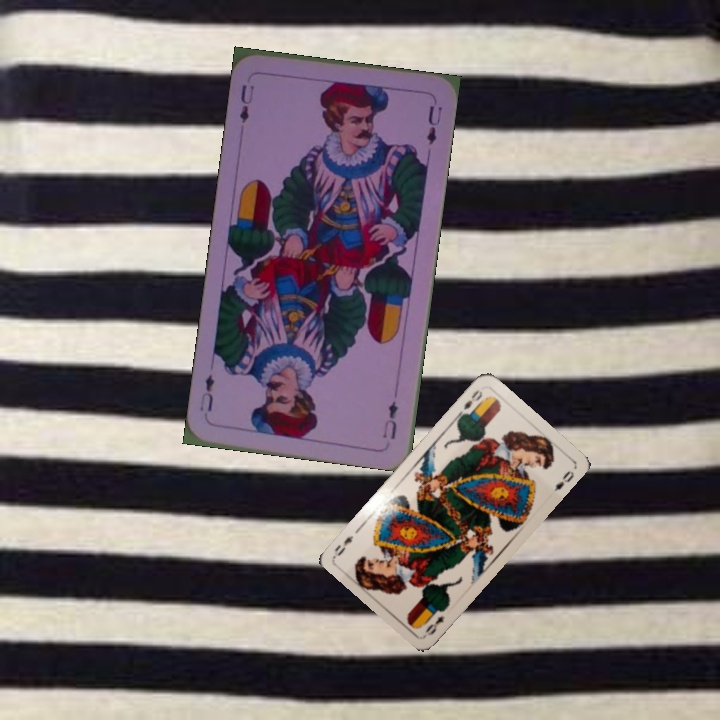EO: (455, 386, 485, 418), (421, 612, 447, 638)
EU: (378, 397, 400, 442), (235, 81, 257, 125)
